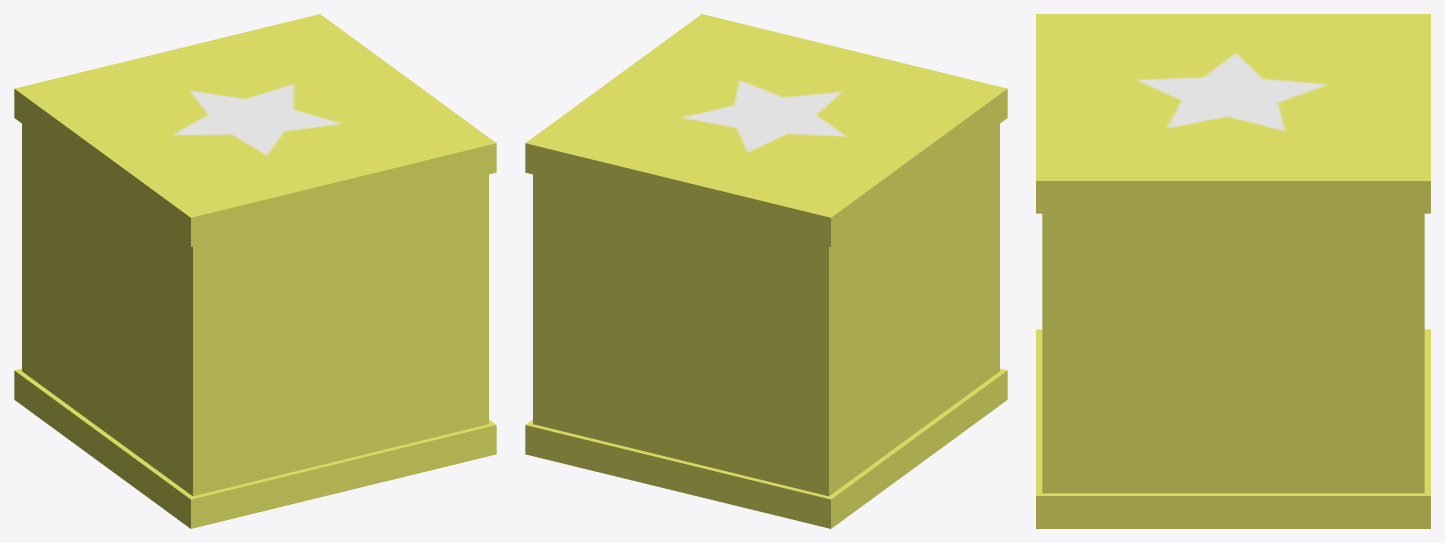
File: 星星箱子.fbx
3 renders of one model, left to right at view 1: azimuth 30°, elevation 25°; view 2: azimuth 150°, elevation 25°; view 3: azimuth 270°, elevation 25°, orthographic. The views are drawn at different scales.
Parts seen in each view (by area): view 1: Object004; view 2: Object004; view 3: Object004.
Boxes of the visible parts, bbox=[...] form: Object004: bbox=[14, 14, 496, 528]; Object004: bbox=[525, 14, 1007, 528]; Object004: bbox=[1036, 14, 1430, 528].
Bounding box in the file's own units: 75.3 × 73.23 × 75.3.
